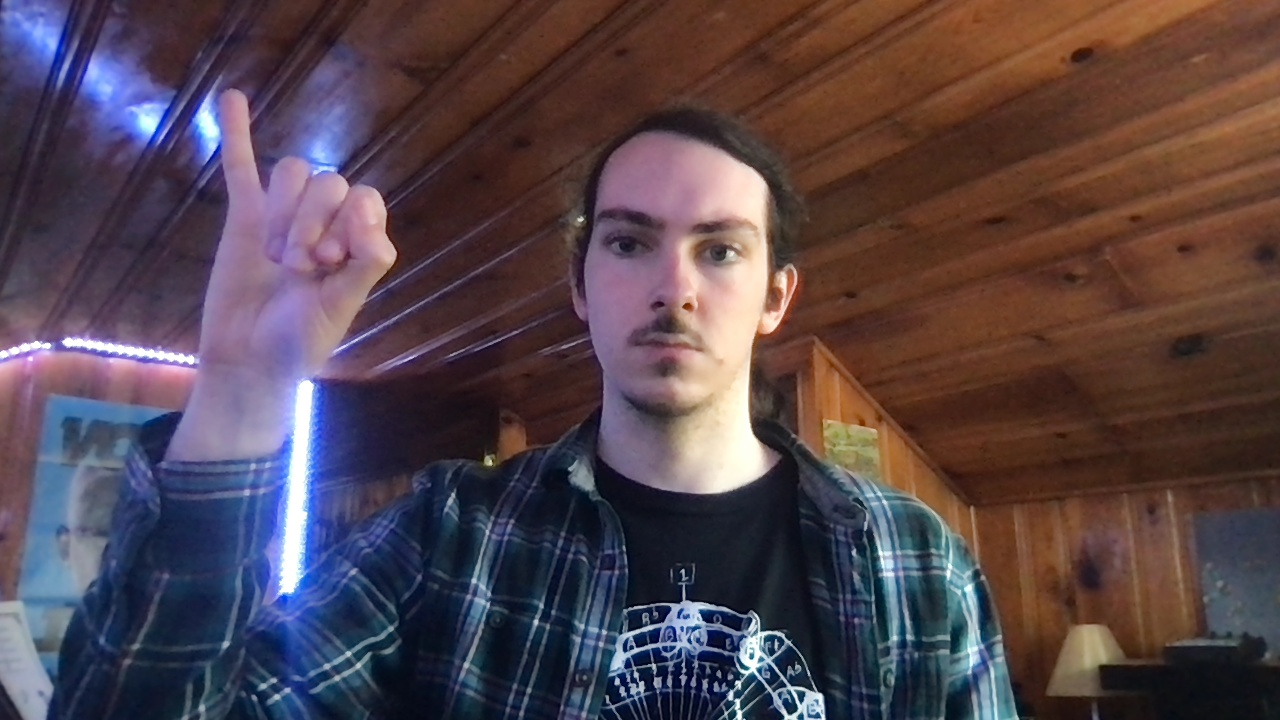i: (197, 86, 400, 379)
